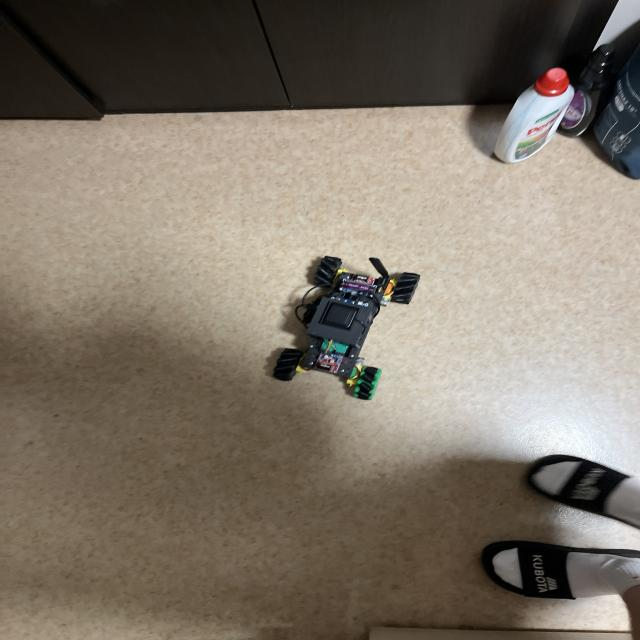robot: (273, 256, 420, 400)
